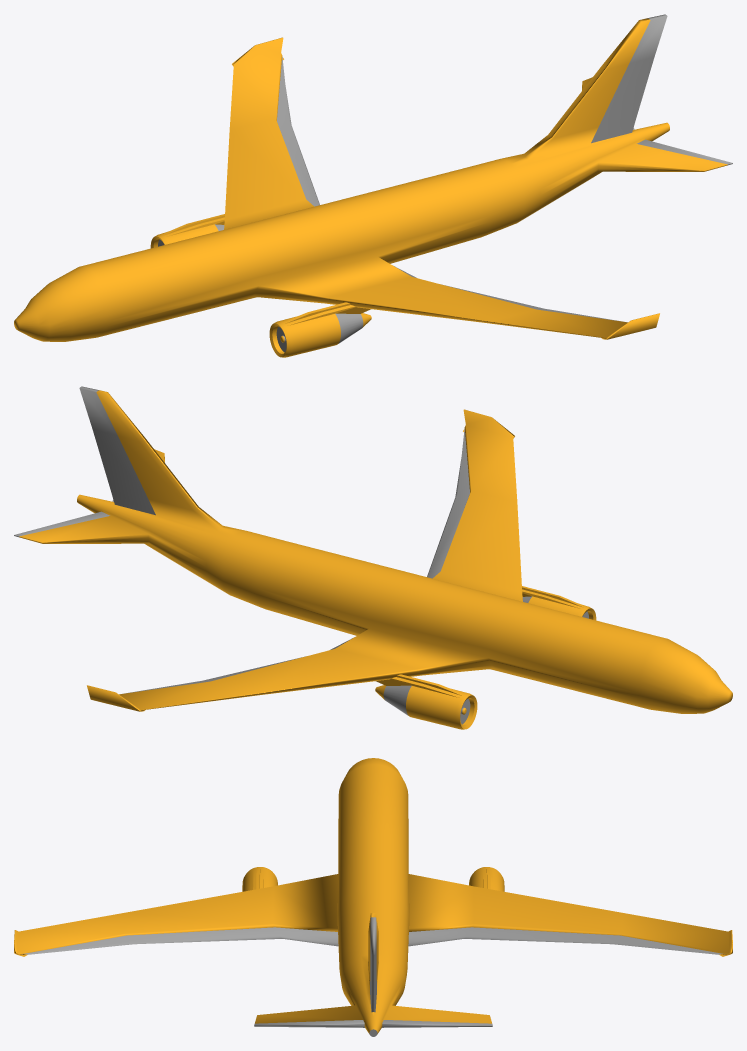
File: airplane.glb
3 renders of one model, top to bottom at view 1: azimuth 30°, elevation 25°; view 2: azimuth 150°, elevation 25°; view 3: azimuth 270°, elevation 25°, orthographic. The views are drawn at different scales.
Visible parts, largest first — view 1: Plane, Plane.001, black, black.001; view 2: Plane, Plane.001, black, black.001; view 3: Plane, Plane.001, black.
Boxes of the visible parts, <box> form: Plane: <box>14,18,727,341</box>; Plane.001: <box>277,14,732,321</box>; black: <box>150,214,371,357</box>; black.001: <box>158,224,363,352</box>; Plane: <box>19,390,732,713</box>; Plane.001: <box>14,386,469,693</box>; black: <box>375,586,596,729</box>; black.001: <box>383,596,588,724</box>; Plane: <box>14,758,732,1033</box>; Plane.001: <box>22,917,724,1036</box>; black: <box>242,867,504,891</box>.
Bounding box in the file's own units: 22.58 × 6.28 × 22.57.
